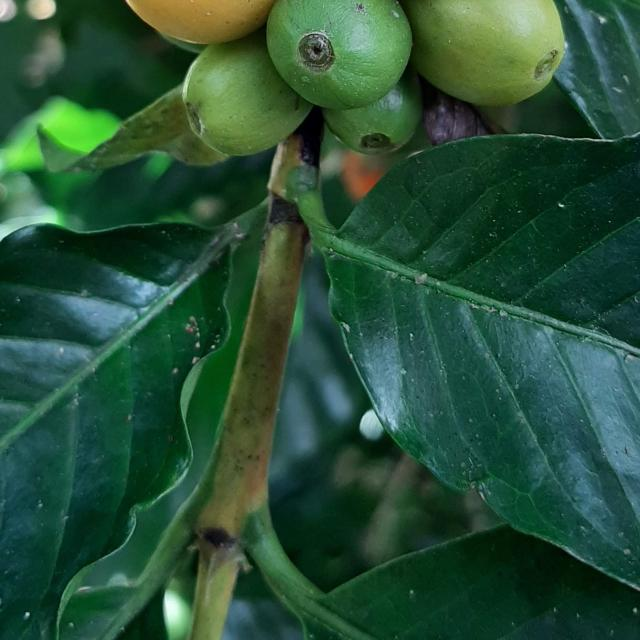green: (402, 0, 565, 106), (182, 29, 312, 155), (267, 0, 412, 109), (323, 67, 423, 154)
yellow: (126, 0, 275, 43)
